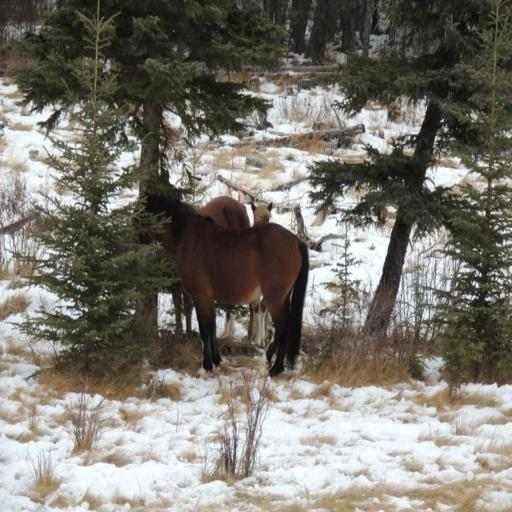horse: (128, 186, 310, 379), (164, 193, 252, 336), (249, 200, 273, 350)
